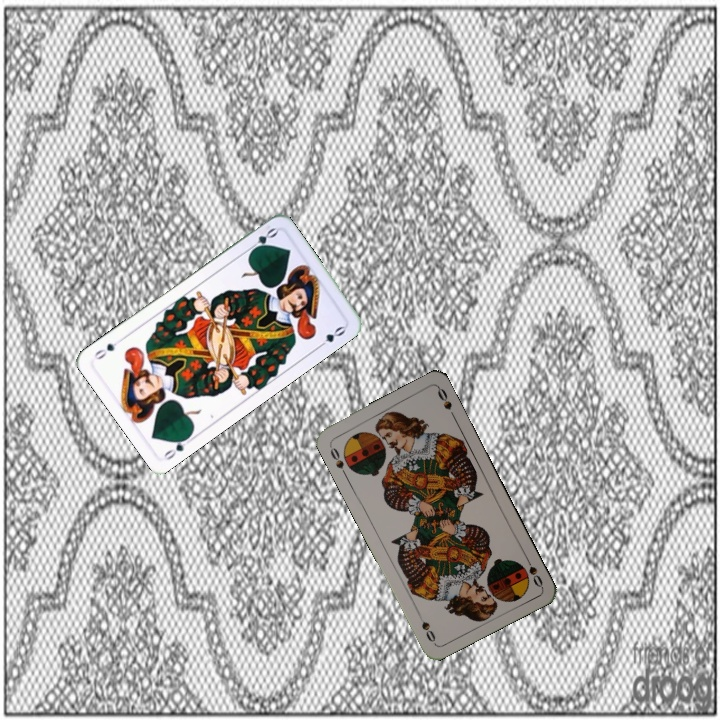GO: (244, 223, 280, 256), (160, 431, 196, 463)
SO: (521, 552, 545, 590), (325, 440, 349, 478)
